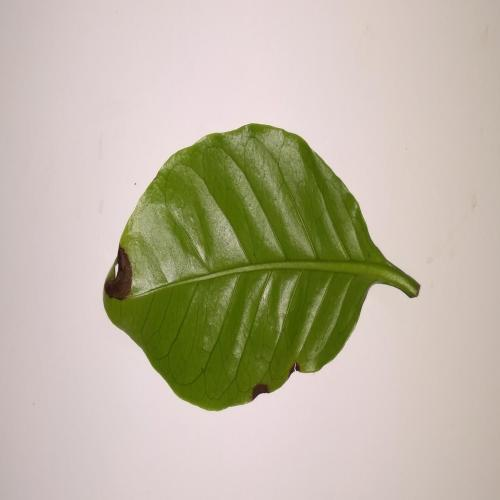miner: (104, 245, 131, 299)
